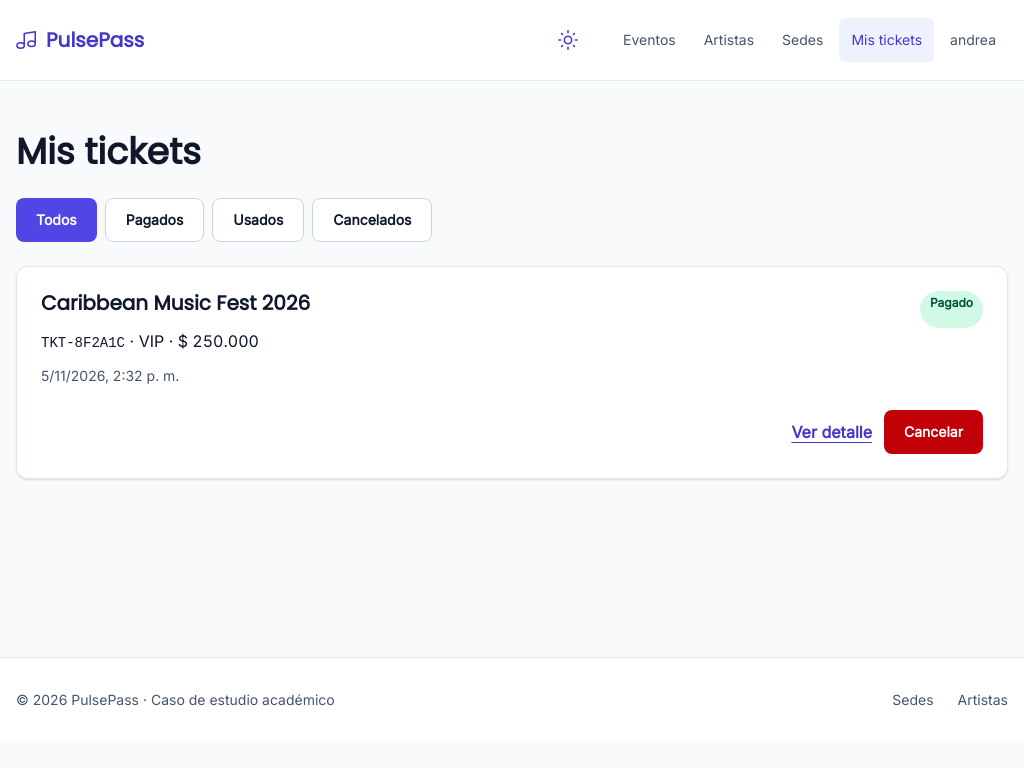
Scenario: TEST-FE-TKT-007 cancelar actualiza lista
The width and height of the screenshot is (1024, 768).
Click the button "Cancelar".
click(934, 432)  # box left=884, top=410, right=983, bottom=454
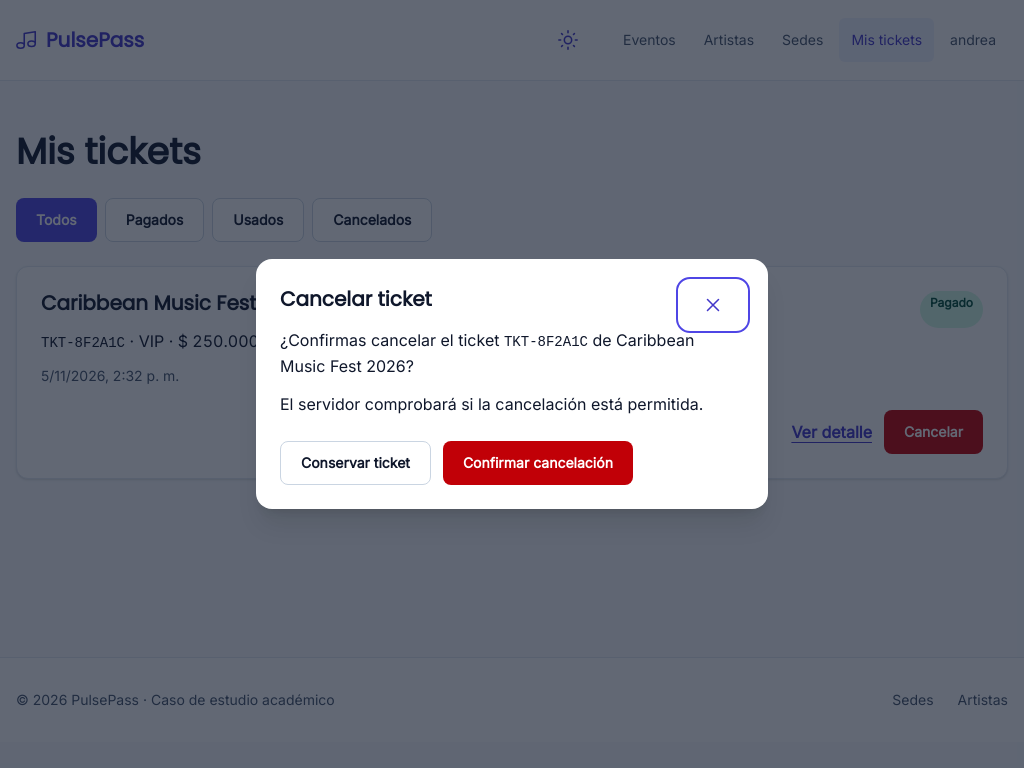
Click the button "Confirmar cancelación".
click(538, 463)  # box left=443, top=441, right=633, bottom=485
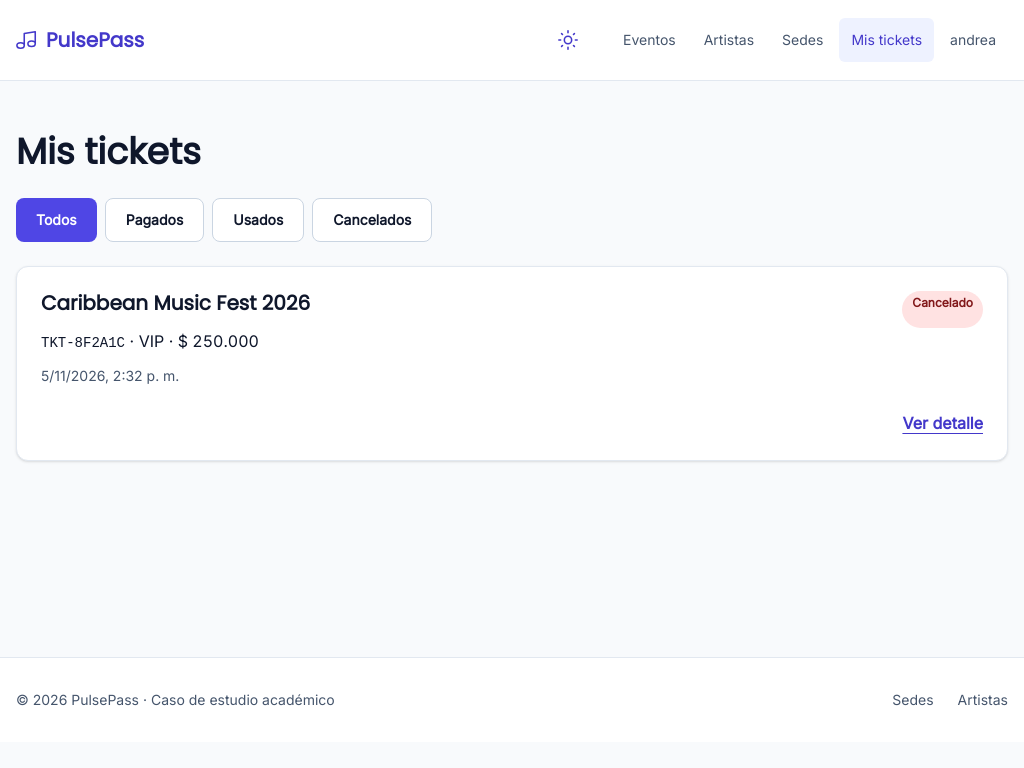
Result: the text "Cancelado" is shown at left=902, top=291, right=983, bottom=328
